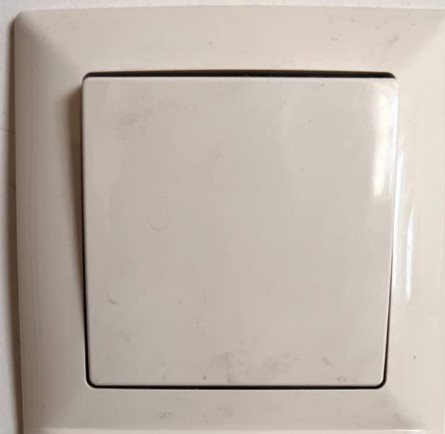Light Switcher: (15, 14, 445, 432)
